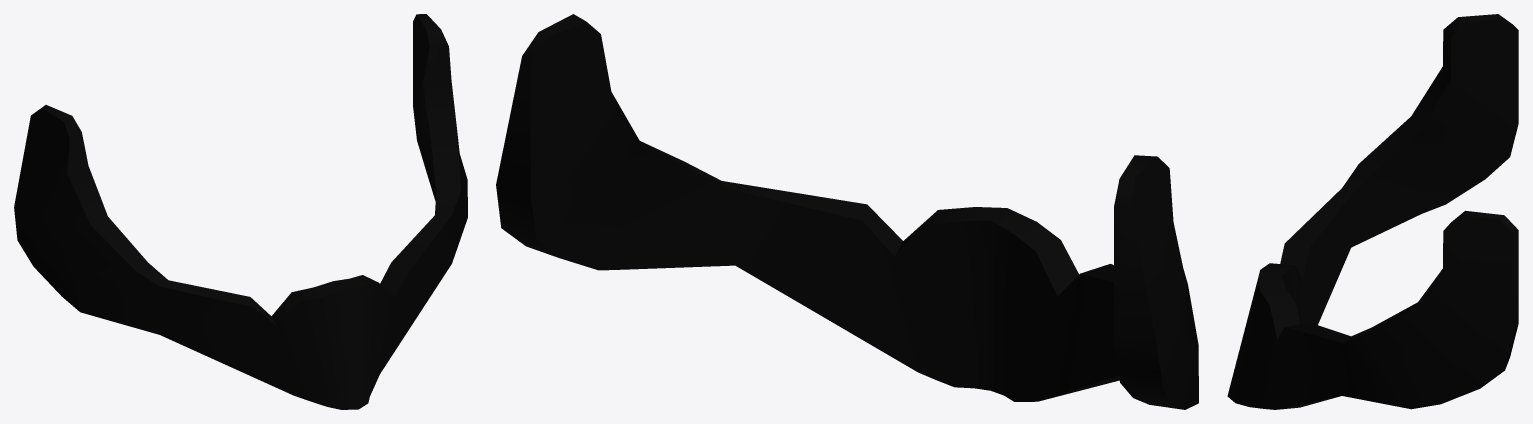
File: Hair_23.fbx
3 views of the same model, side by side, from view 1: azimuth 30°, elevation 25°; view 2: azimuth 150°, elevation 25°; view 3: azimuth 270°, elevation 25° (orthographic). The views are drawn at different scales.
Parts seen in each view (by area): view 1: Hair_23; view 2: Hair_23; view 3: Hair_23.
Boxes of the visible parts, x1,y1,x2,y2 form: Hair_23: (14, 14, 467, 409); Hair_23: (496, 14, 1198, 409); Hair_23: (1227, 14, 1518, 409).
Bounding box in the file's own units: 113 × 65.31 × 61.53.
